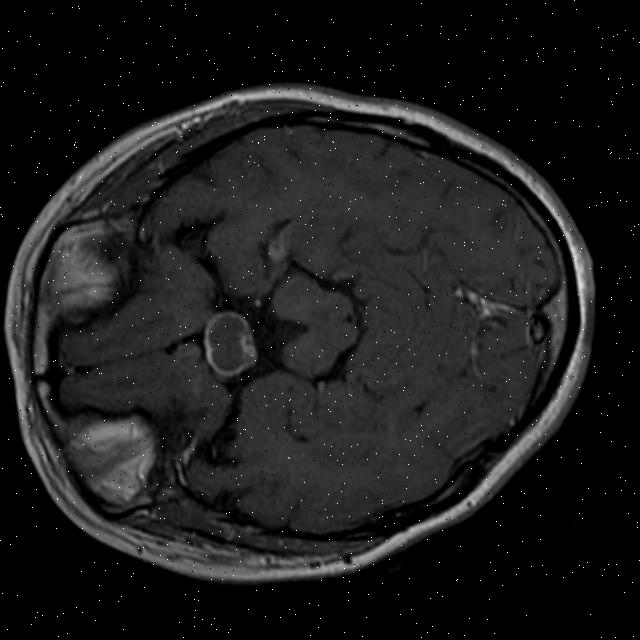Pituitary: (194, 303, 261, 379)
